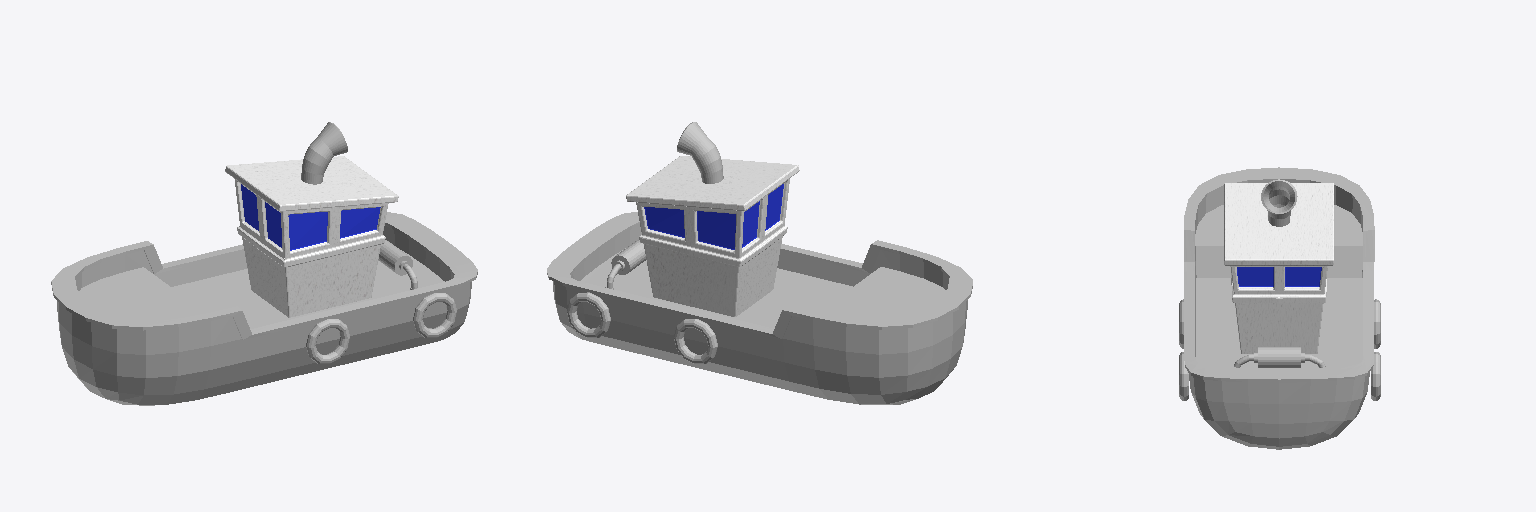
3 renders of one model, left to right at view 1: azimuth 30°, elevation 25°; view 2: azimuth 150°, elevation 25°; view 3: azimuth 270°, elevation 25°, orthographic.
Parts seen in each view (by area): view 1: Cube, Plane, Cylinder, Torus, Torus.001, Cylinder.002; view 2: Cube, Plane, Cylinder, Torus.002, Torus.003, Cylinder.002; view 3: Cube, Plane, Cylinder, Cylinder.002.
Boxes of the visible parts, x1,y1,x2,y2 form: Cube: [51, 212, 477, 405]; Plane: [225, 156, 398, 317]; Cylinder: [301, 122, 347, 184]; Torus: [413, 293, 456, 337]; Torus.001: [306, 319, 349, 363]; Cylinder.002: [378, 240, 418, 289]; Cube: [547, 212, 972, 404]; Plane: [626, 156, 799, 316]; Cylinder: [677, 122, 723, 183]; Torus.002: [567, 292, 610, 337]; Torus.003: [674, 319, 717, 363]; Cylinder.002: [605, 240, 645, 289]; Cube: [1184, 167, 1374, 449]; Plane: [1224, 183, 1333, 353]; Cylinder: [1261, 179, 1297, 226]; Cylinder.002: [1234, 347, 1325, 367].
Size of the model in its own units: 6.5 by 3.72 by 2.98.
Materials: 6 (2 with a texture image).